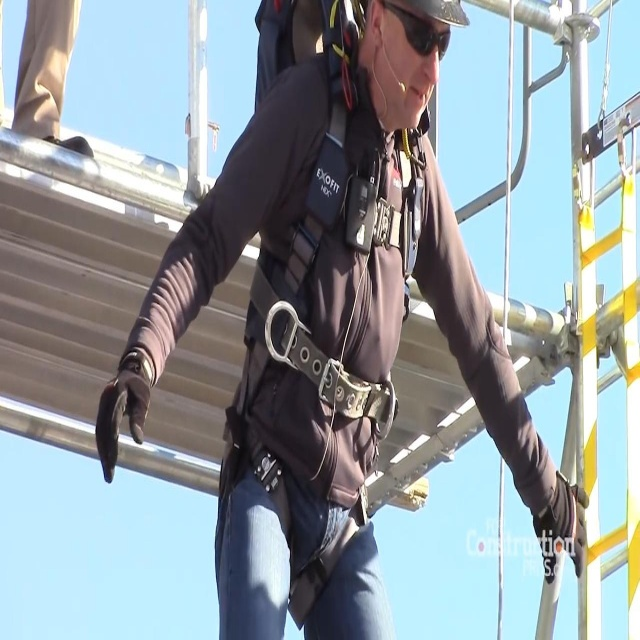Arnes_seguridad: (207, 0, 434, 632)
